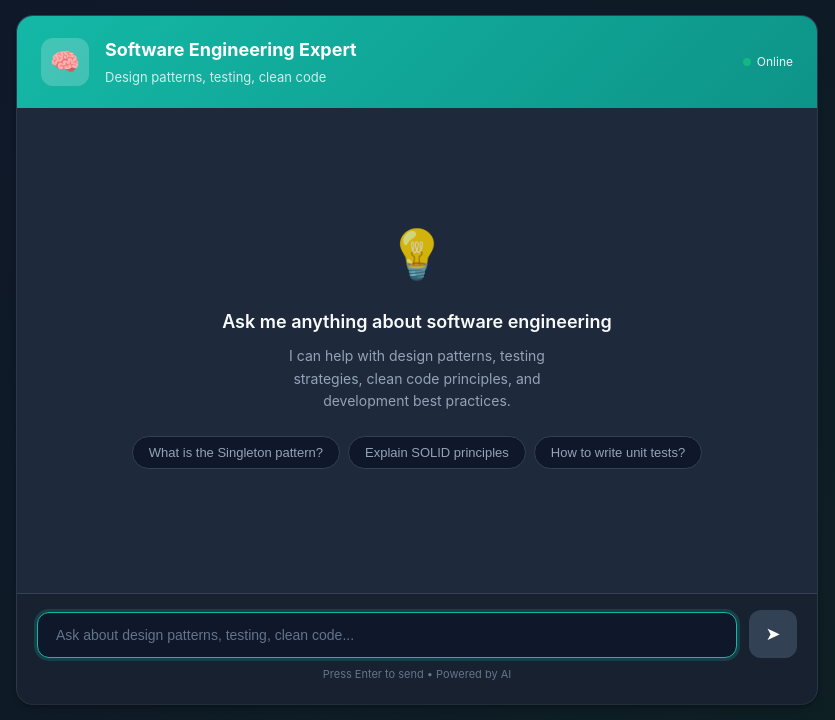
Test: ChatBox › should enable send button when input has text
Step 1. Type "Hello" into the field with placeholder "Ask about design patterns, testing, clean code..." → (387,635), box [37,612,737,658]
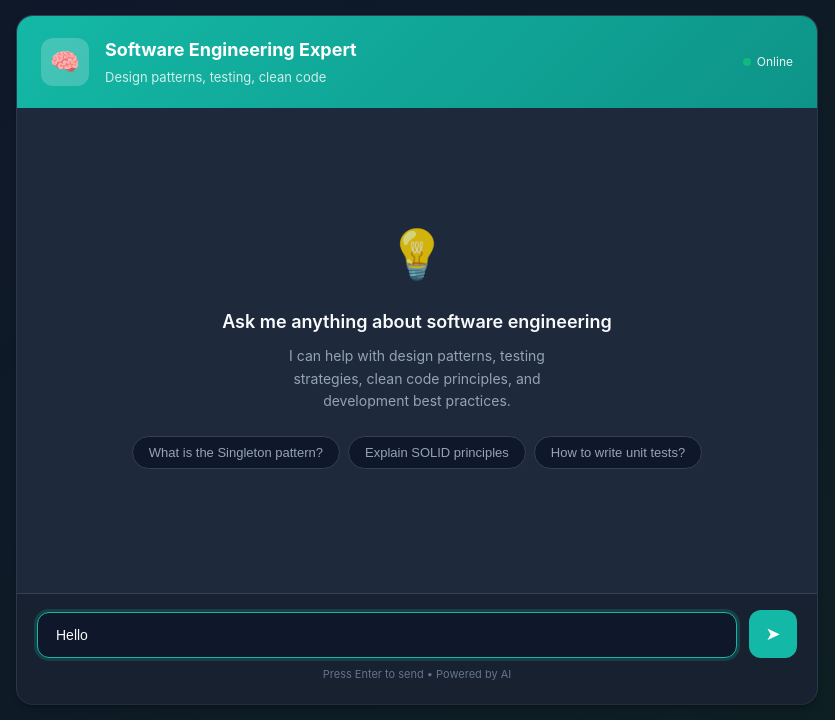
Now the button "➤" is enabled, box [749,610,797,658]
